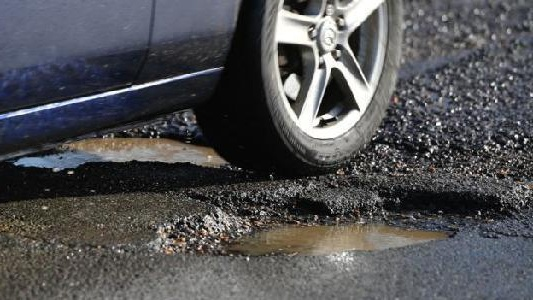pothole: (150, 186, 512, 262)
